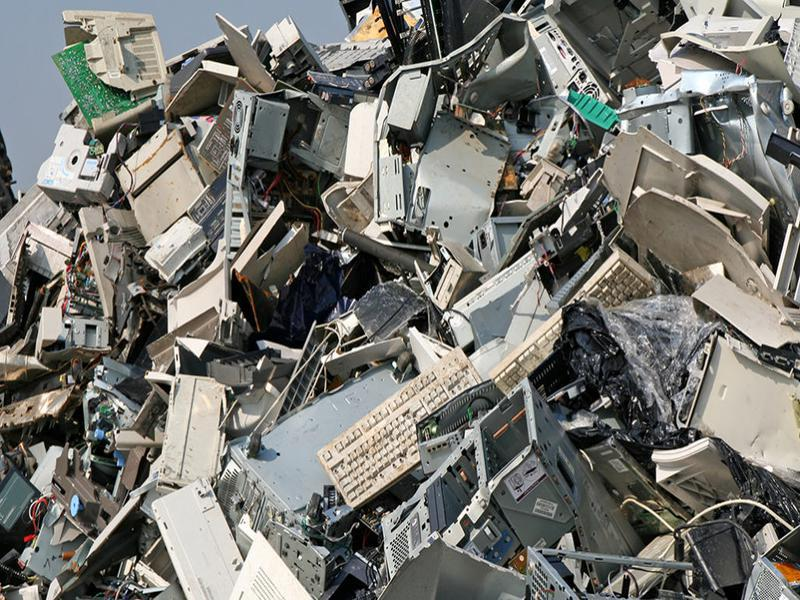circuit_board: (45, 42, 133, 131)
keyboard: (308, 344, 481, 510)
plastic: (563, 294, 727, 440)
